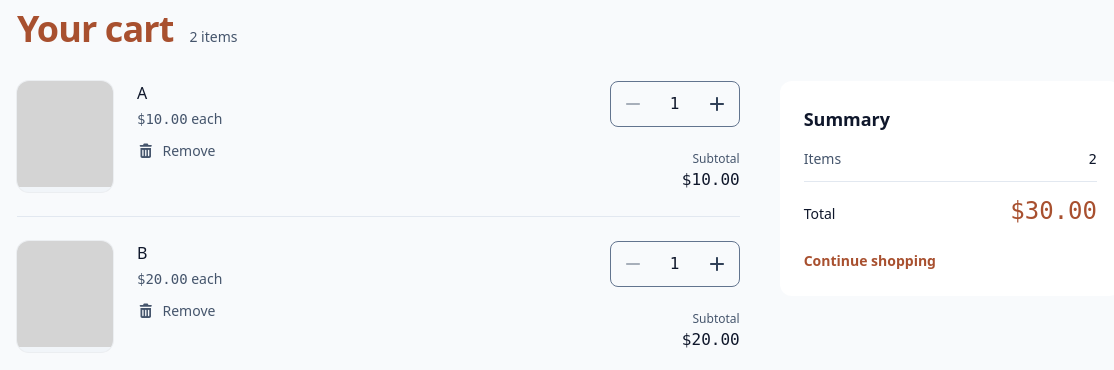
Test: Cart page › removing a product drops it from the cart and updates the total
The image size is (1114, 370).
Click the button with aria-label "remove a from cart" at x=176, y=151, box left=137, top=141, right=215, bottom=161
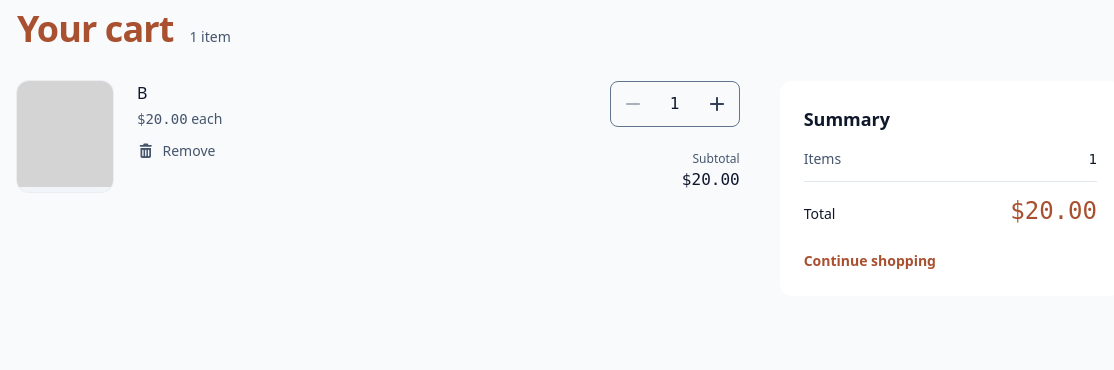
Check: the heading "B" is shown, box left=137, top=82, right=147, bottom=104
Check: the element with test id "cart-total-price" reads "$20.00", box left=1010, top=197, right=1097, bottom=225
